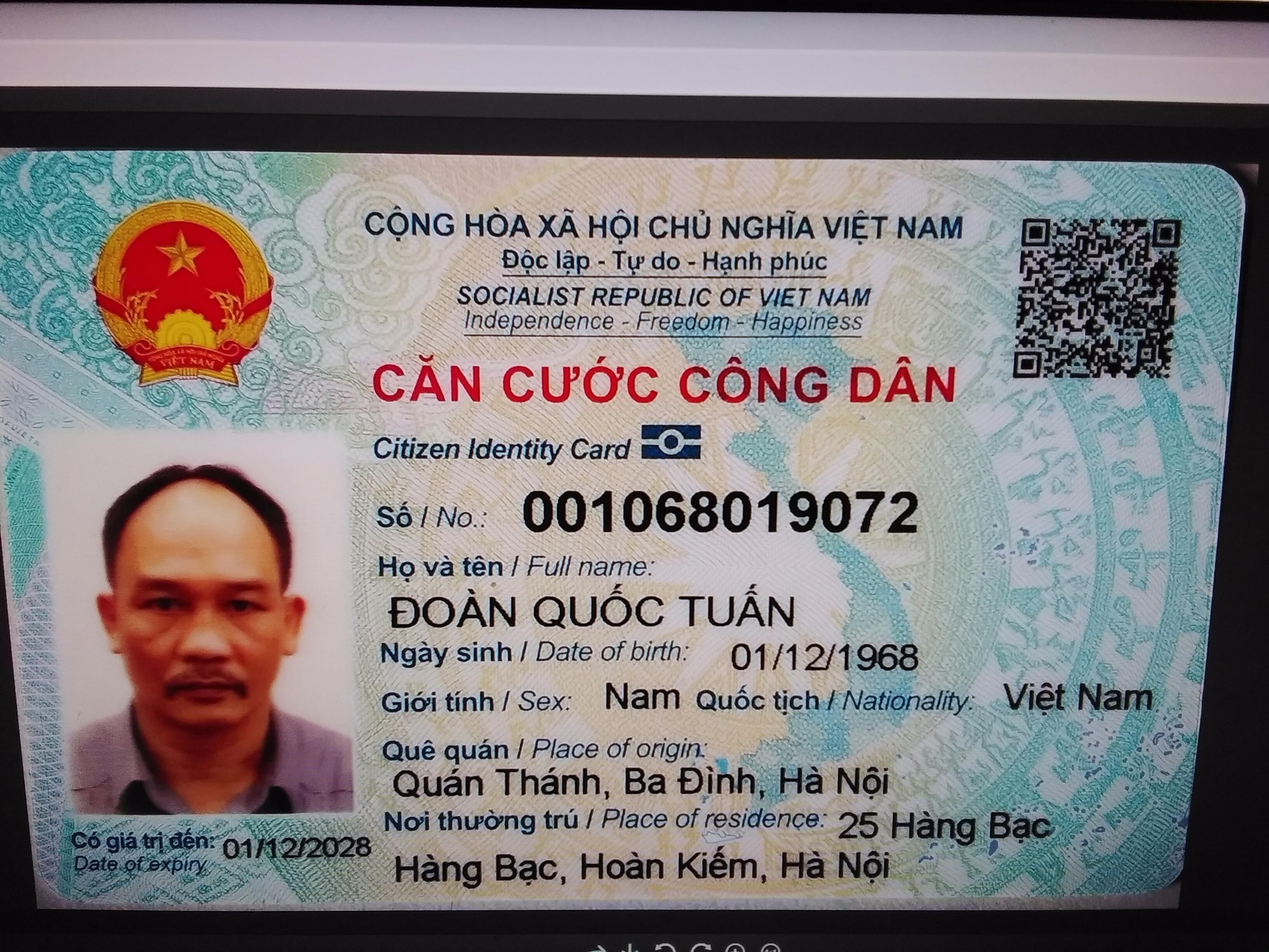ID: (521, 475, 932, 549)
birth: (719, 632, 923, 678)
name: (379, 578, 809, 640)
place: (387, 763, 893, 802)
residence: (387, 840, 912, 894), (836, 803, 1057, 855)
